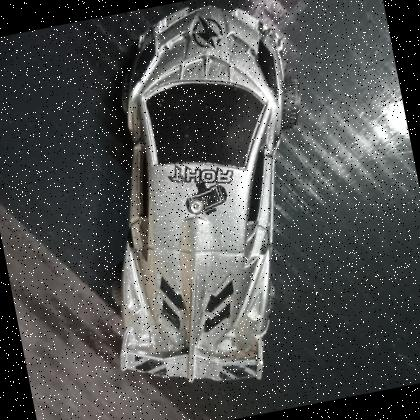Car: (48, 0, 360, 413)
